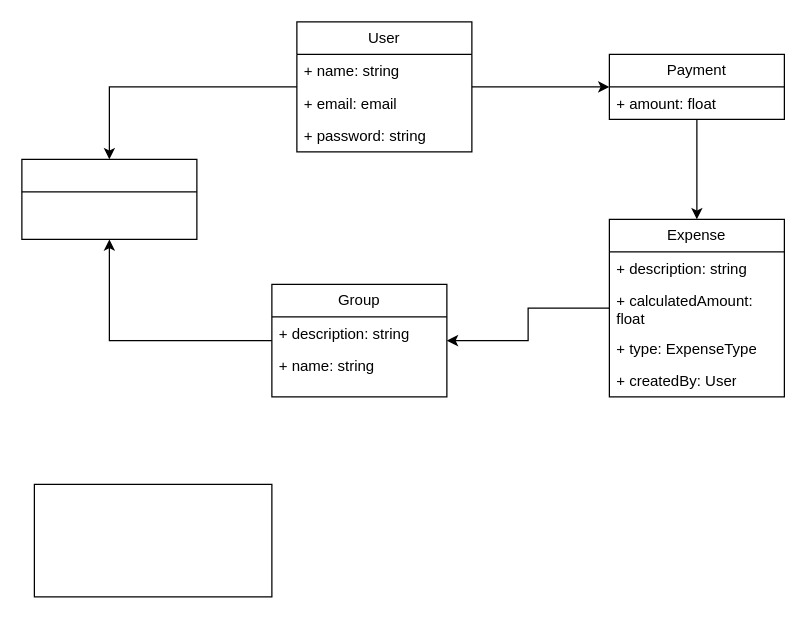
Some shapes in this 806 by 619 pixel diagram are drawn without their labels. Each missing label, with the centre of its shape:
<<Enumerative>> ExpenseType + Equal + ExactAmount: the point at 152,540
UserGroup: the point at 109,198
